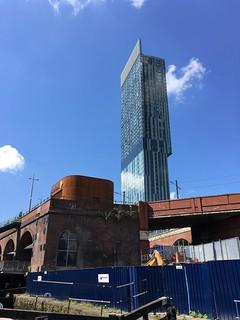building: (118, 36, 172, 210)
